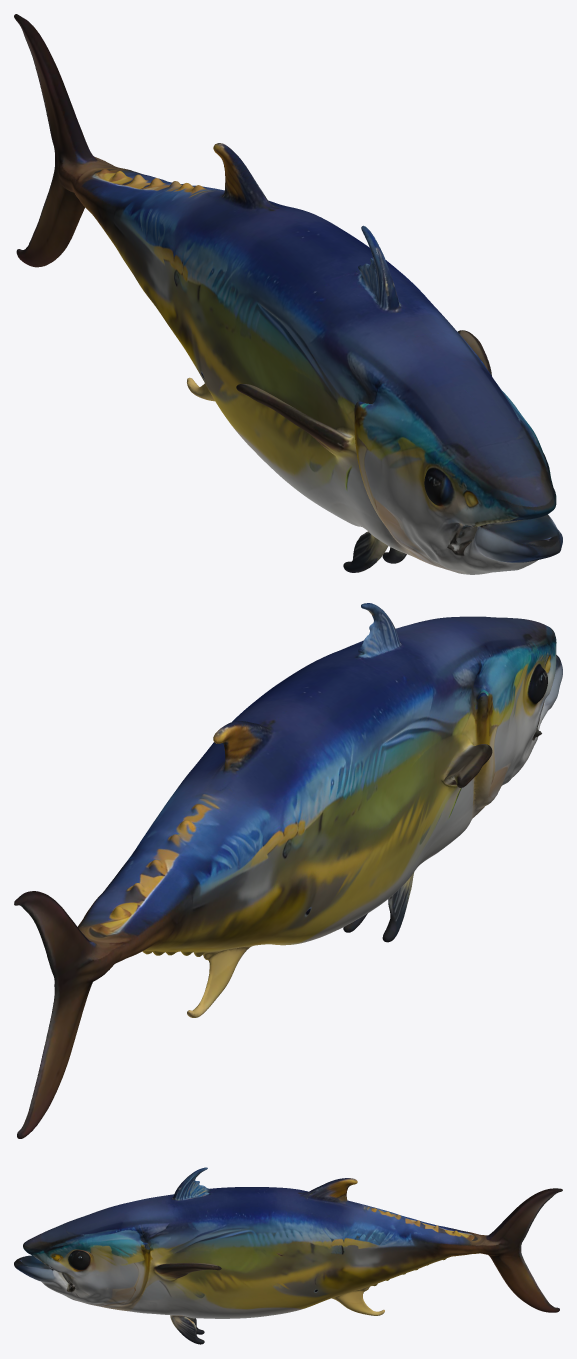
The model's file is fish_albacore_tuna.glb.
3 views of the same model, one above another, from view 1: azimuth 30°, elevation 25°; view 2: azimuth 150°, elevation 25°; view 3: azimuth 270°, elevation 25° (orthographic). The views are drawn at different scales.
Visible parts, largest first — view 1: tripo_node_b35abbb6-b5dd-4000-9693-a27c064f4561; view 2: tripo_node_b35abbb6-b5dd-4000-9693-a27c064f4561; view 3: tripo_node_b35abbb6-b5dd-4000-9693-a27c064f4561.
Boxes of the visible parts, bbox=[...] form: tripo_node_b35abbb6-b5dd-4000-9693-a27c064f4561: bbox=[14, 14, 562, 574]; tripo_node_b35abbb6-b5dd-4000-9693-a27c064f4561: bbox=[14, 603, 562, 1138]; tripo_node_b35abbb6-b5dd-4000-9693-a27c064f4561: bbox=[14, 1167, 562, 1344].
Bounding box in the file's own units: 0.2471 × 0.3453 × 1.
Materials: 1 (1 with a texture image).
